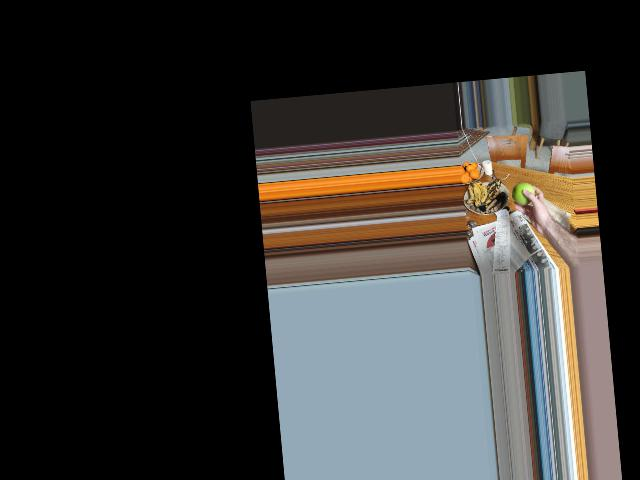apple: (511, 180, 533, 208)
